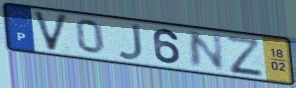0: (74, 18, 108, 56)
6: (151, 27, 183, 67)
J: (115, 23, 145, 62)
N: (187, 29, 227, 72)
V: (30, 9, 71, 54)
Z: (223, 34, 266, 77)
